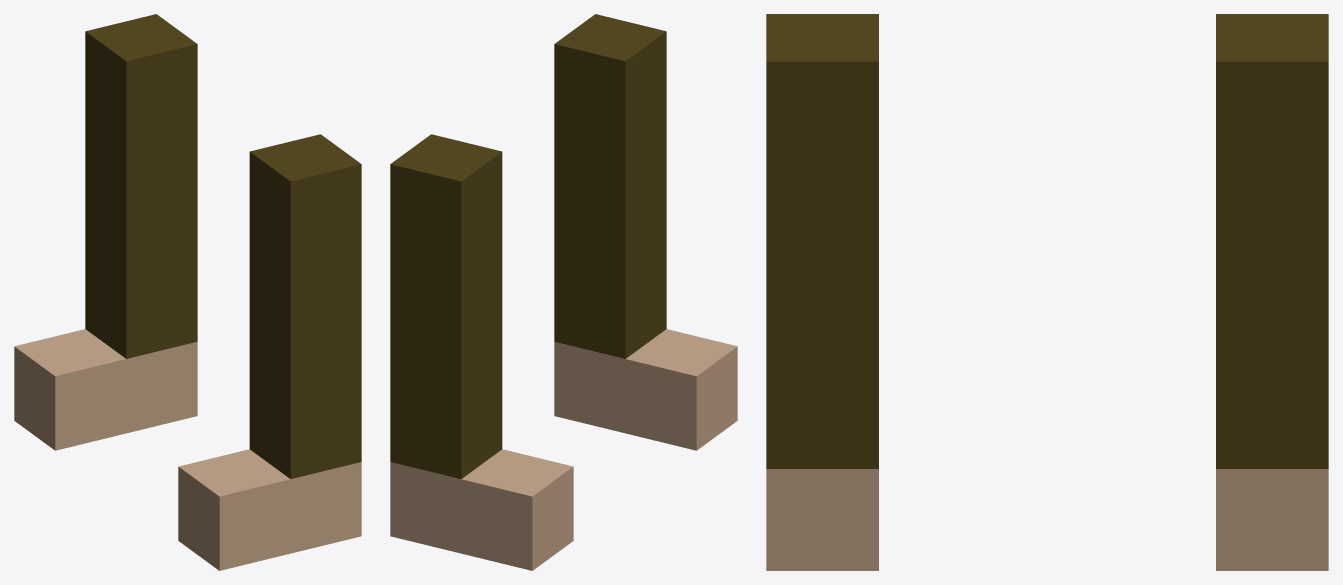
Rendered from orc-25-torso_stand.obj.
3 renders of one model, left to right at view 1: azimuth 30°, elevation 25°; view 2: azimuth 150°, elevation 25°; view 3: azimuth 270°, elevation 25°, orthographic. The views are drawn at different scales.
Parts seen in each view (by area): view 1: torso_stand; view 2: torso_stand; view 3: torso_stand.
Boxes of the visible parts, x1,y1,x2,y2 form: torso_stand: [14, 14, 361, 570]; torso_stand: [390, 14, 737, 570]; torso_stand: [766, 14, 1328, 570].
Size of the model in its own units: 0.2 by 0.5 by 0.5.
Materials: 1 (1 with a texture image).
